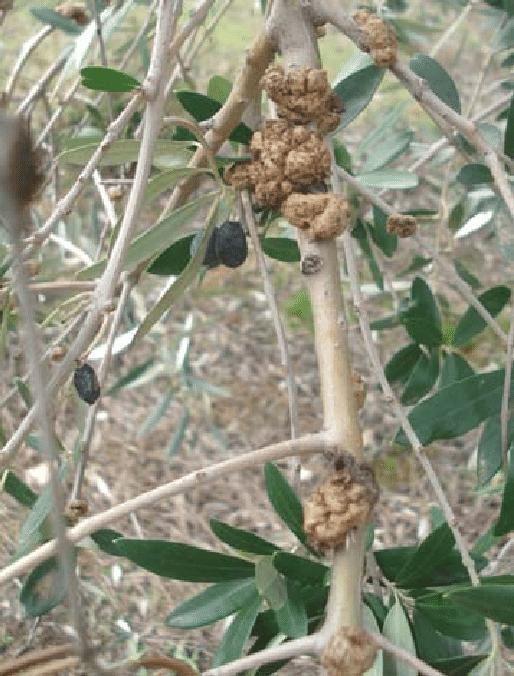Tuberculosis: (219, 116, 335, 210), (286, 444, 383, 550), (256, 61, 347, 132), (284, 191, 358, 246), (348, 8, 403, 69), (321, 623, 380, 676), (48, 0, 92, 37), (385, 210, 419, 240), (65, 497, 89, 524)
